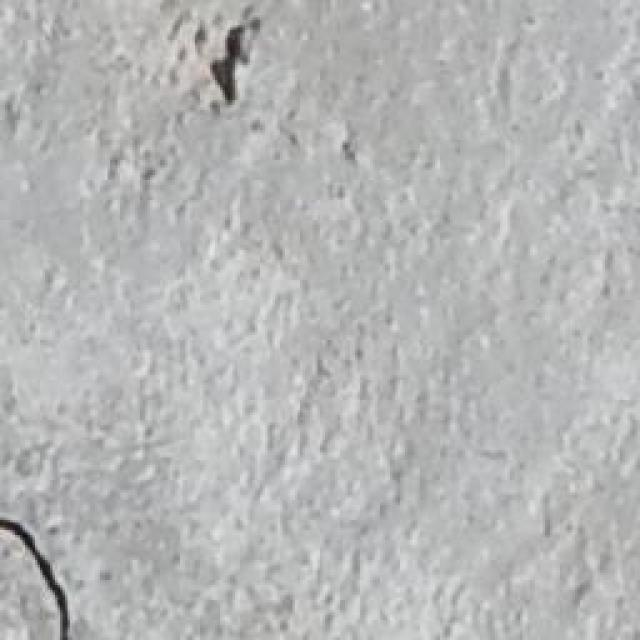concrete-crack: (0, 511, 78, 640), (208, 18, 260, 105)
